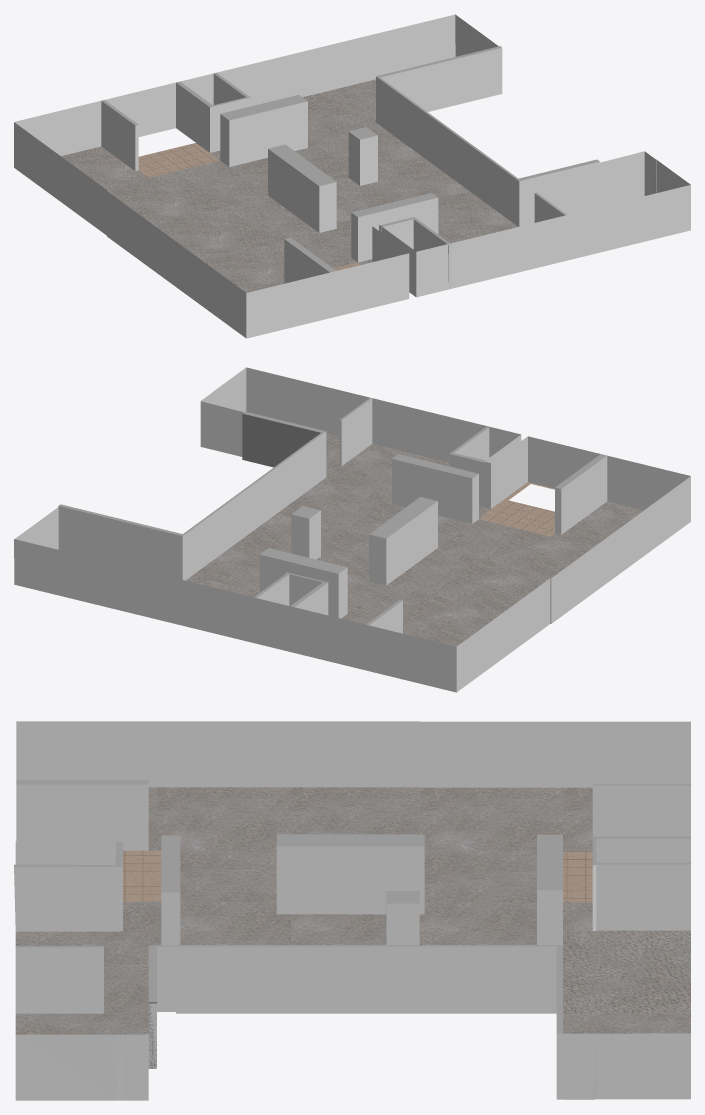
Rendered from 3floor.fbx.
The picture shows the model from 3 angles, top to bottom: view 1: azimuth 30°, elevation 25°; view 2: azimuth 150°, elevation 25°; view 3: azimuth 270°, elevation 25°; orthographic projection. The views are drawn at different scales.
Visible parts, largest first — view 1: floor_3f; view 2: floor_3f; view 3: floor_3f.
Part boxes in pixels (<box>): floor_3f: <box>14,14,690,338</box>; floor_3f: <box>14,367,690,692</box>; floor_3f: <box>14,721,690,1100</box>.
Size of the model in its own units: 0.4986 by 0.0502 by 0.455.
Materials: 2 (1 with a texture image).
